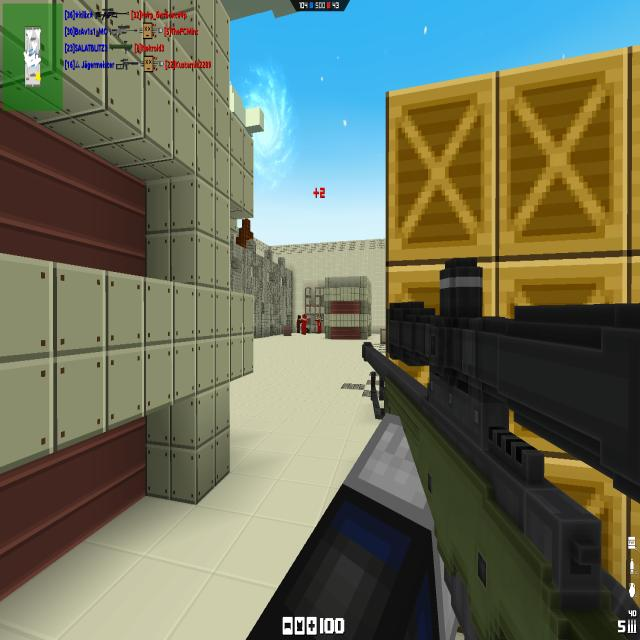player: (300, 314, 308, 335), (315, 316, 322, 334), (296, 314, 302, 334)
